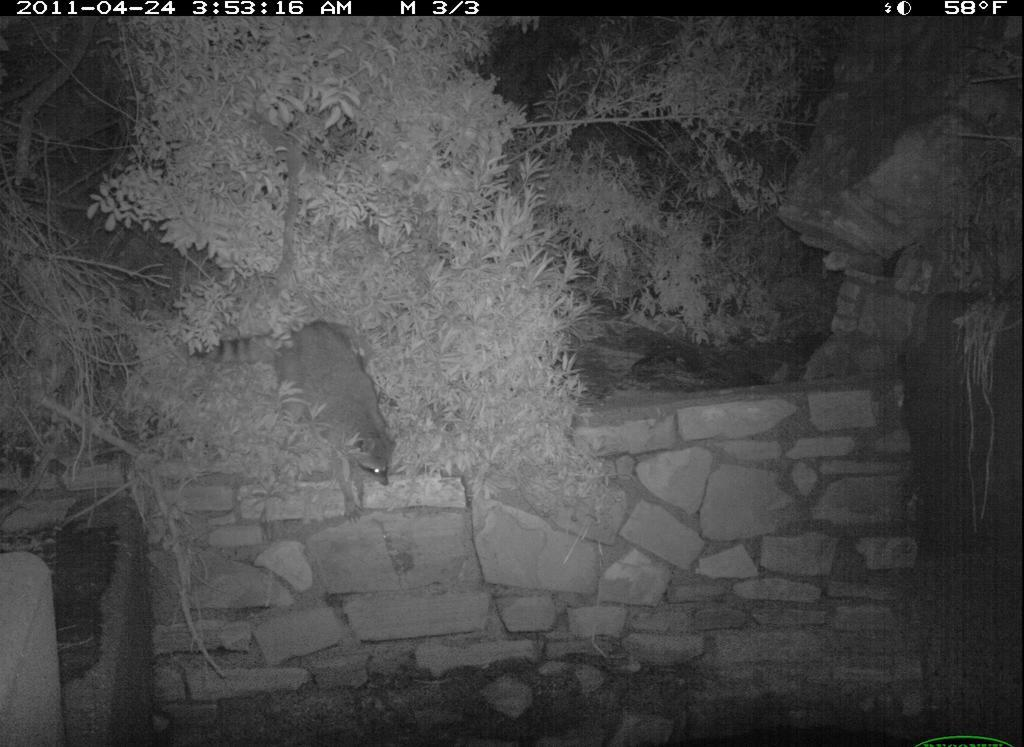raccoon: (187, 319, 397, 525)
